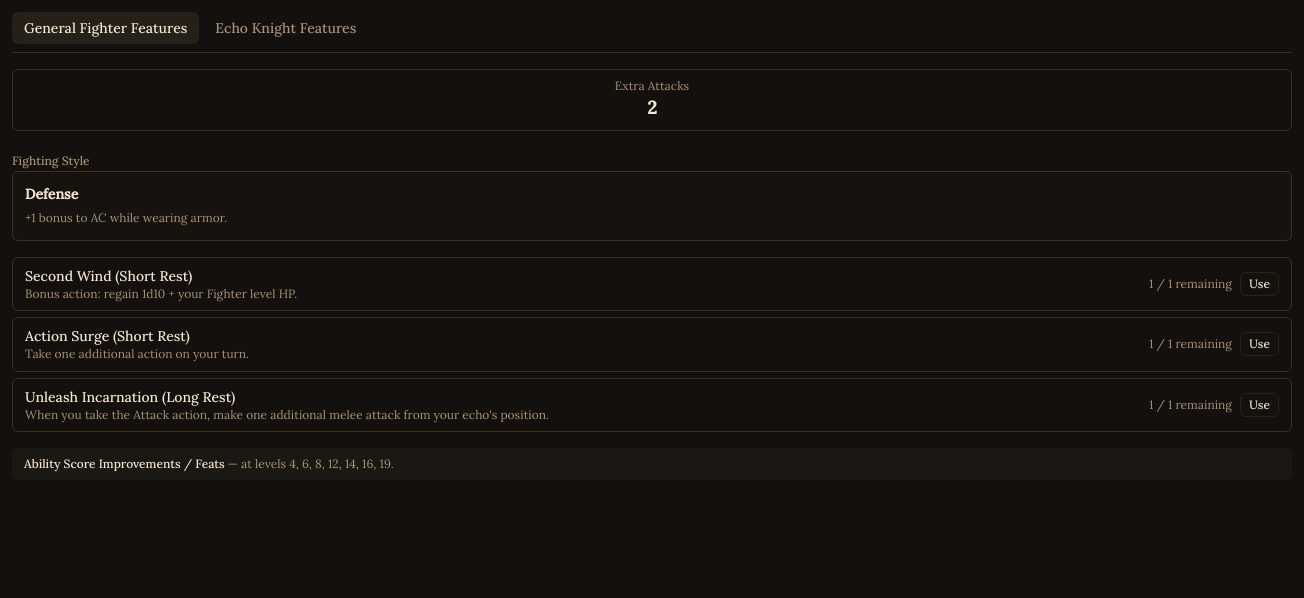
Test case: ClassSheet — summoned companion statblock › shows the echo's statblock under an Echo Knight's subclass tab
Click the button with test id "features-subtab-subclass" at (286, 28), box [203,12,368,44]
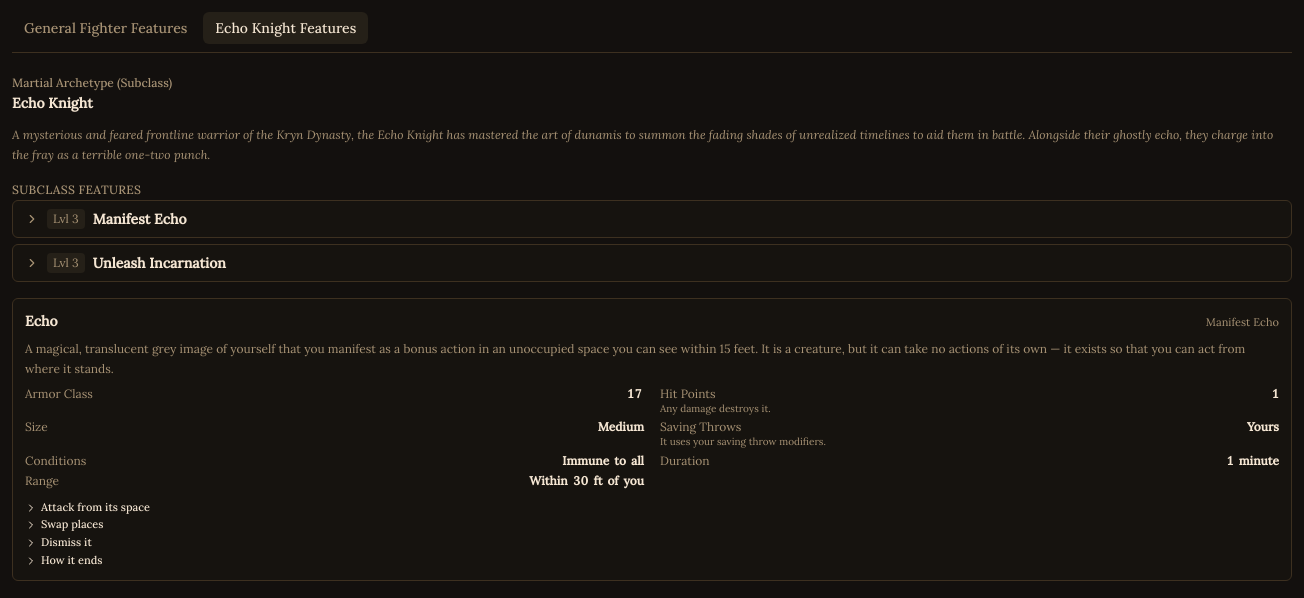
Now the element with test id "companion-echo" is shown, box [12,298,1292,581]
Now the button with test id "companion-echo-stat-ac" reads "17", box [624,386,644,402]
